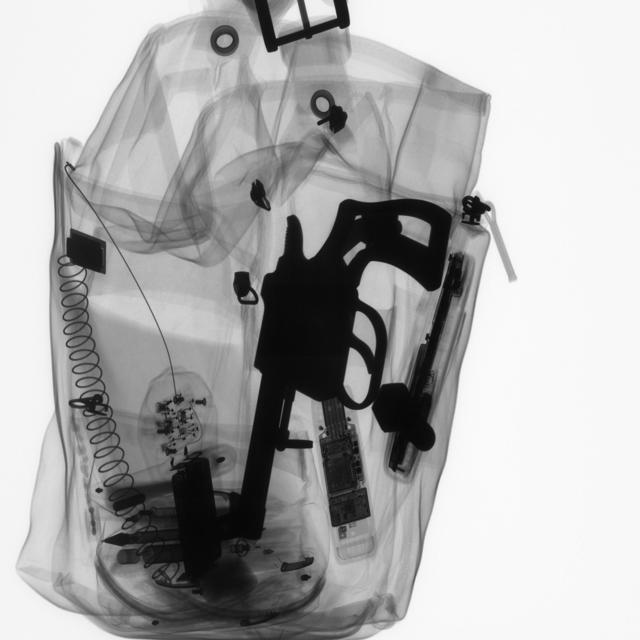gun: (212, 188, 454, 545)
